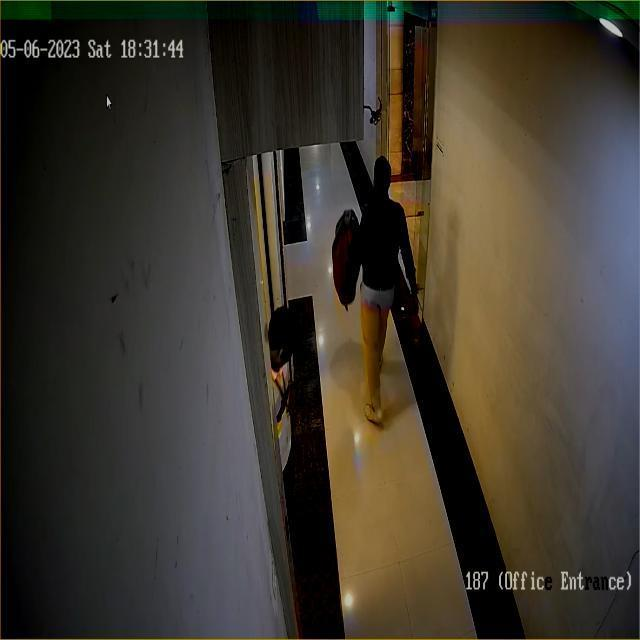gunny_bag: (331, 205, 362, 312)
